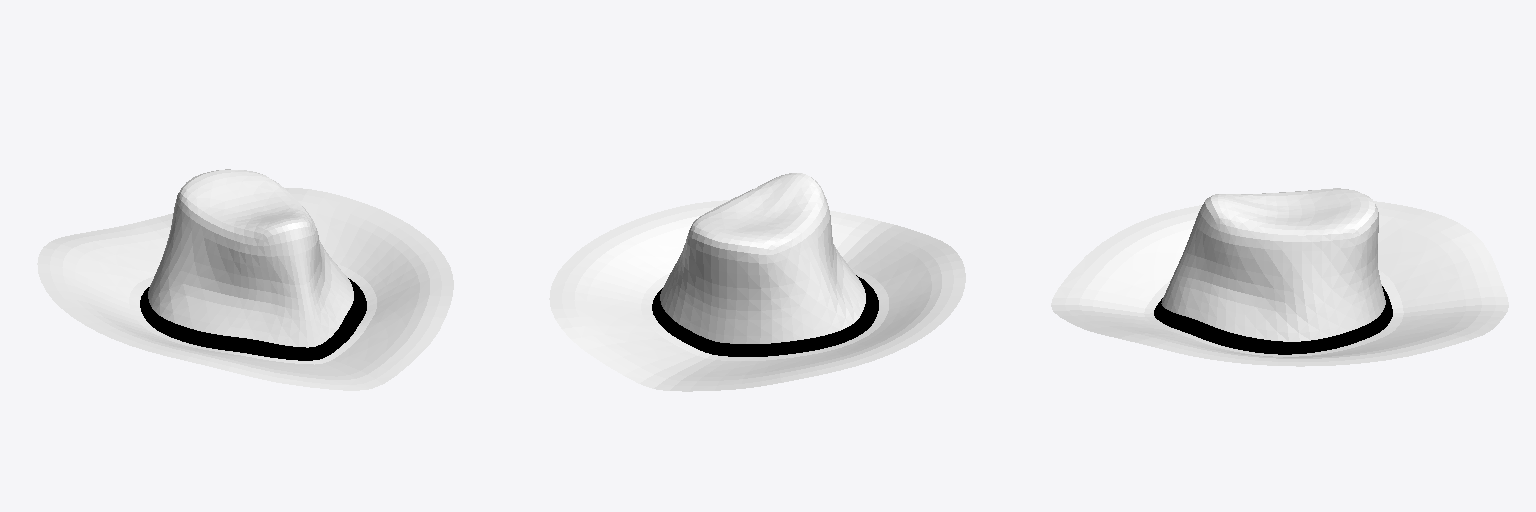
The model's file is sombrero.obj.
The picture shows the model from 3 angles: view 1: azimuth 30°, elevation 25°; view 2: azimuth 150°, elevation 25°; view 3: azimuth 270°, elevation 25°; orthographic projection.
Visible parts, largest first — view 1: CowboyHat; view 2: CowboyHat; view 3: CowboyHat.
Part boxes in pixels (left/top/right/bottom): CowboyHat: left=37, top=169, right=453, bottom=390; CowboyHat: left=549, top=173, right=965, bottom=391; CowboyHat: left=1051, top=188, right=1508, bottom=366.
Bounding box in the file's own units: 1.53 × 0.4845 × 1.75.